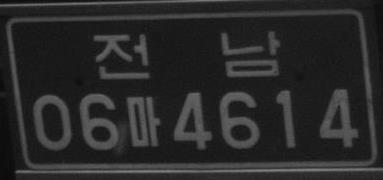0: (32, 93, 72, 151)
1: (266, 89, 303, 147)
4: (318, 89, 359, 148), (173, 91, 212, 149)
6: (78, 92, 121, 151), (218, 90, 260, 148)
마: (124, 96, 160, 148)
전남_D: (92, 31, 282, 80)
